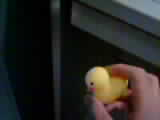duck: (77, 57, 135, 99)
